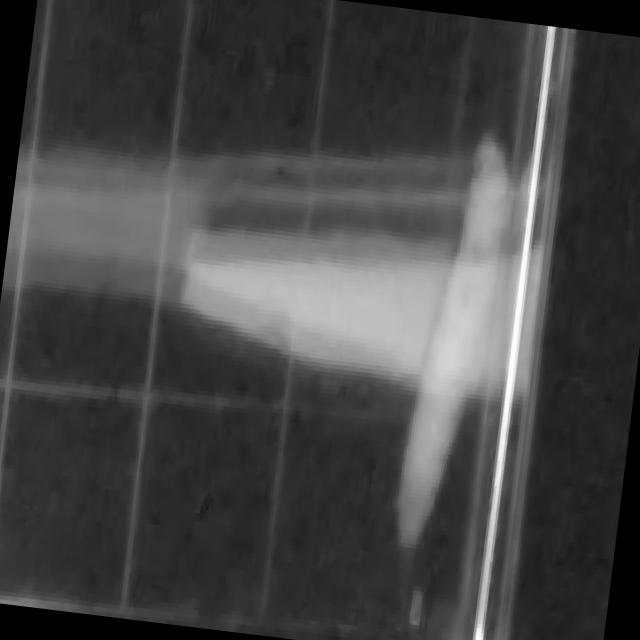larva: (386, 116, 526, 574)
